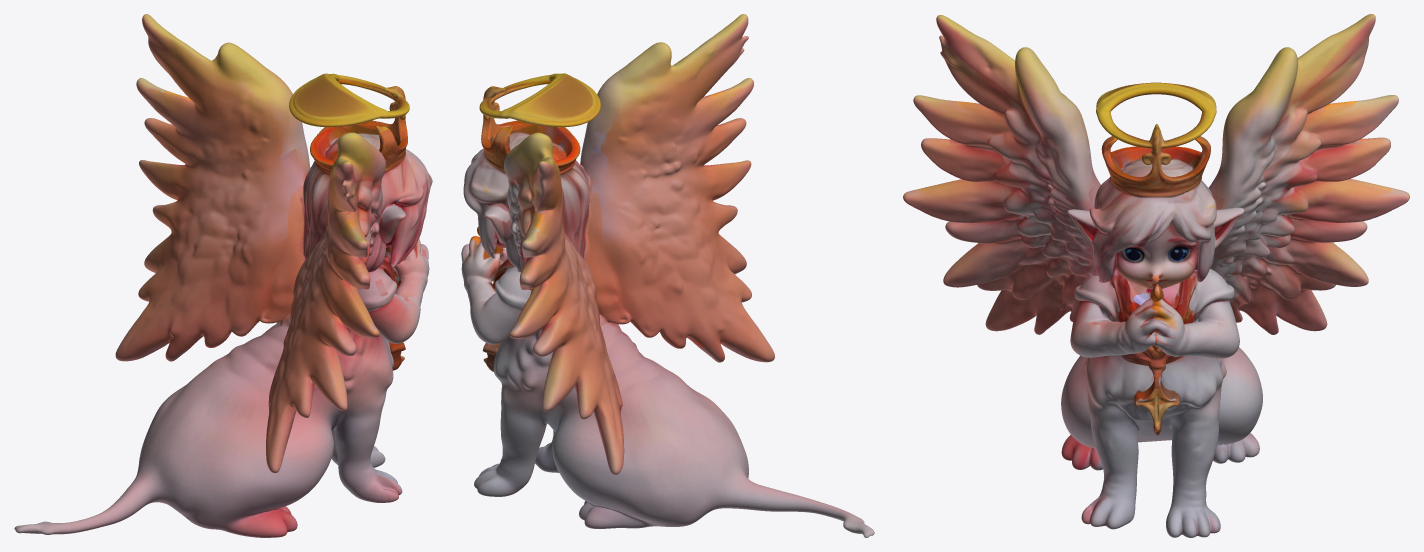
File: guardian_angel_pet.glb
3 renders of one model, left to right at view 1: azimuth 30°, elevation 25°; view 2: azimuth 150°, elevation 25°; view 3: azimuth 270°, elevation 25°, orthographic. The views are drawn at different scales.
Bounding box in the file's own units: 1 × 0.9796 × 0.9973.
1 material, 1 textured.
